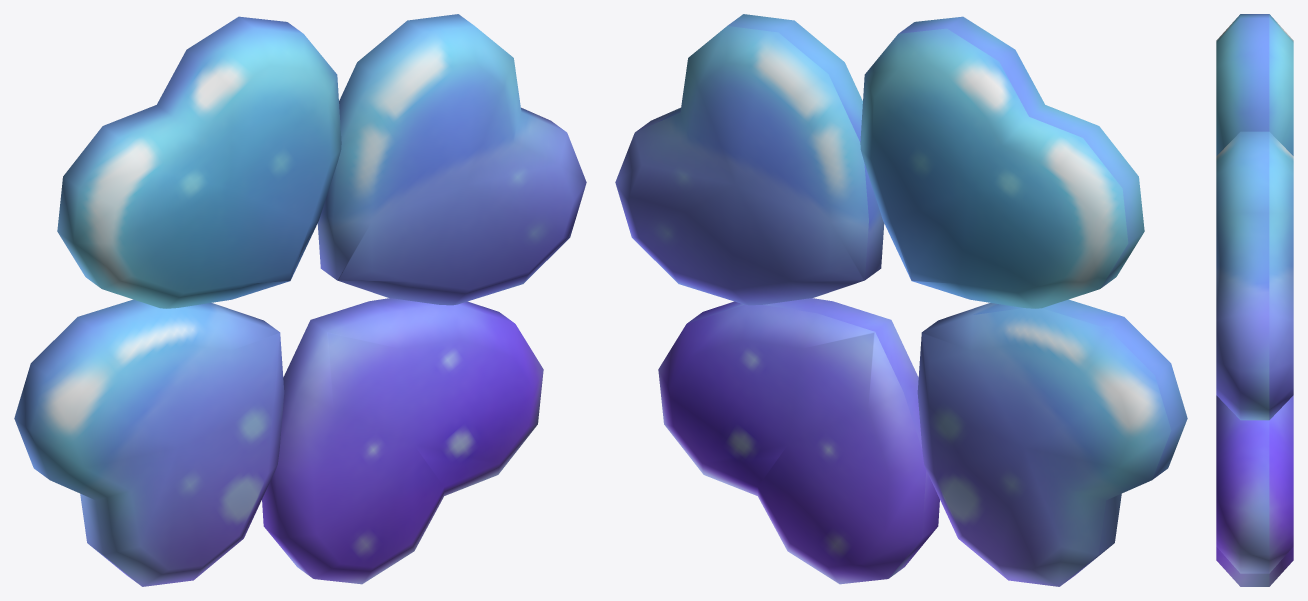
Rendered from scenes_common_tools04.FBX.
The picture shows the model from 3 angles, left to right: view 1: azimuth 30°, elevation 25°; view 2: azimuth 150°, elevation 25°; view 3: azimuth 270°, elevation 25°; orthographic projection. The views are drawn at different scales.
Visible parts, largest first — view 1: scenes_common_tools04; view 2: scenes_common_tools04; view 3: scenes_common_tools04.
Boxes of the visible parts, left/top/right/bottom form: scenes_common_tools04: left=14, top=14, right=586, bottom=586; scenes_common_tools04: left=615, top=14, right=1187, bottom=586; scenes_common_tools04: left=1216, top=14, right=1293, bottom=586.
Bounding box in the file's own units: 76.85 × 76.85 × 10.38.
